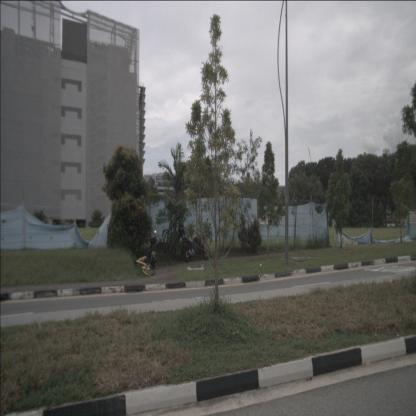vehicle-bicycle: (133, 255, 154, 277)
vehicle-motorcycle: (178, 226, 209, 262), (149, 230, 158, 269)
